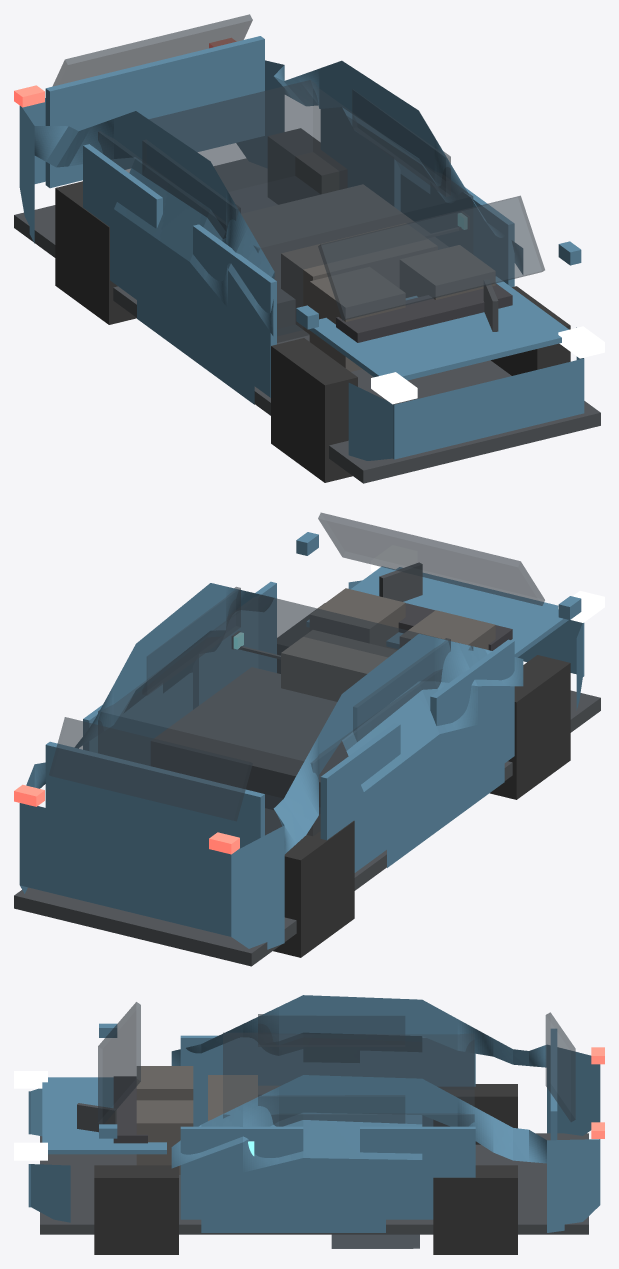
Rendered from suv.9316c880bb.glb.
3 views of the same model, one above another, from view 1: azimuth 30°, elevation 25°; view 2: azimuth 150°, elevation 25°; view 3: azimuth 270°, elevation 25° (orthographic). The views are drawn at different scales.
Parts seen in each view (by area): view 1: body_mesh, cab_mesh, windshield, liftgate_mesh, trim_mesh, frunk_mesh, tire_fr, wheel_well_mesh, tire_rr, seat_rear, door_rr_mesh, rear_glass (+12 smaller); view 2: body_mesh, cab_mesh, wheel_well_mesh, liftgate_mesh, rear_glass, trim_mesh, windshield, tire_rr, tire_fr, door_rr_mesh, frunk_mesh, seat_rear (+12 smaller); view 3: body_mesh, cab_mesh, trim_mesh, tire_fl, door_rl_mesh, tire_rl, frunk_mesh, door_fr_mesh, window_fixed_r, door_fl_mesh, door_rr_mesh, window_fixed_l (+13 smaller).
Boxes of the visible parts, <box> form: body_mesh: <box>19,60,584,460</box>; cab_mesh: <box>98,80,473,336</box>; windshield: <box>318,195,544,320</box>; liftgate_mesh: <box>45,36,264,188</box>; trim_mesh: <box>14,158,600,483</box>; frunk_mesh: <box>309,276,568,380</box>; tire_fr: <box>271,338,357,482</box>; wheel_well_mesh: <box>241,184,447,342</box>; tire_rr: <box>55,181,136,324</box>; seat_rear: <box>281,223,437,334</box>; door_rr_mesh: <box>83,144,162,299</box>; rear_glass: <box>52,14,252,86</box>; body_mesh: <box>19,580,584,949</box>; cab_mesh: <box>98,595,473,835</box>; wheel_well_mesh: <box>151,667,348,813</box>; liftgate_mesh: <box>45,741,264,848</box>; rear_glass: <box>49,717,252,821</box>; trim_mesh: <box>14,690,600,966</box>; windshield: <box>318,512,544,605</box>; tire_rr: <box>273,814,354,957</box>; tire_fr: <box>490,655,570,799</box>; door_rr_mesh: <box>320,723,400,872</box>; frunk_mesh: <box>306,566,568,657</box>; seat_rear: <box>281,630,396,701</box>; body_mesh: <box>28,995,600,1232</box>; cab_mesh: <box>223,1032,474,1126</box>; trim_mesh: <box>40,1133,588,1234</box>; tire_fl: <box>94,1165,178,1254</box>; door_rl_mesh: <box>360,1126,475,1219</box>; tire_rl: <box>433,1165,517,1254</box>; frunk_mesh: <box>42,1077,166,1154</box>; door_fr_mesh: <box>180,1035,302,1126</box>; window_fixed_r: <box>258,1014,404,1046</box>; door_fl_mesh: <box>180,1126,303,1219</box>; door_rr_mesh: <box>360,1036,475,1126</box>; window_fixed_l: <box>258,1094,404,1126</box>.
Bounding box in the file's own units: 2.19 × 2.07 × 5.21.
